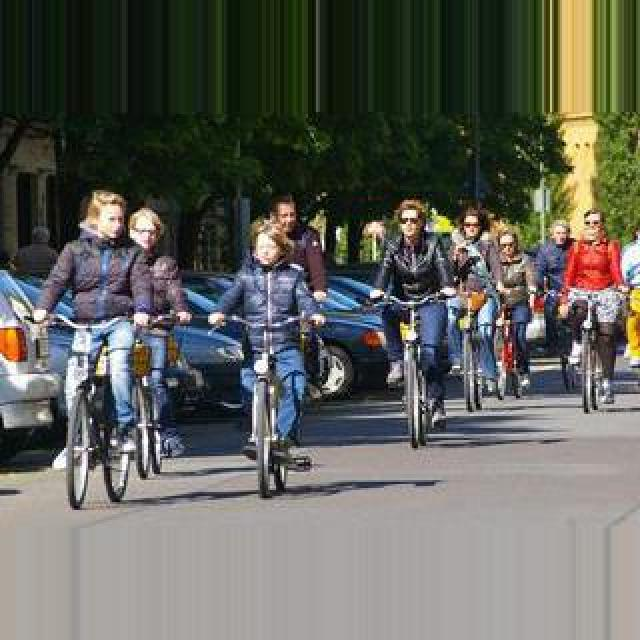Bus-Bike: (312, 276, 398, 396)
MC-Bike: (32, 188, 144, 474), (210, 206, 326, 472), (372, 198, 458, 422), (128, 216, 192, 452), (560, 208, 626, 386), (448, 208, 500, 402), (492, 226, 536, 396), (534, 220, 576, 354), (622, 222, 640, 370)
Person: (48, 314, 144, 508), (232, 322, 310, 496), (386, 294, 450, 448), (562, 292, 622, 414), (446, 290, 490, 412), (490, 292, 520, 402)
